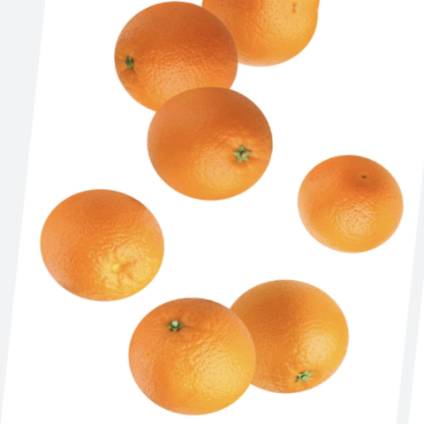orange: (25, 165, 178, 310), (114, 286, 269, 424), (89, 0, 255, 127), (211, 271, 363, 405), (138, 76, 287, 210), (291, 145, 411, 267), (193, 0, 327, 86)
